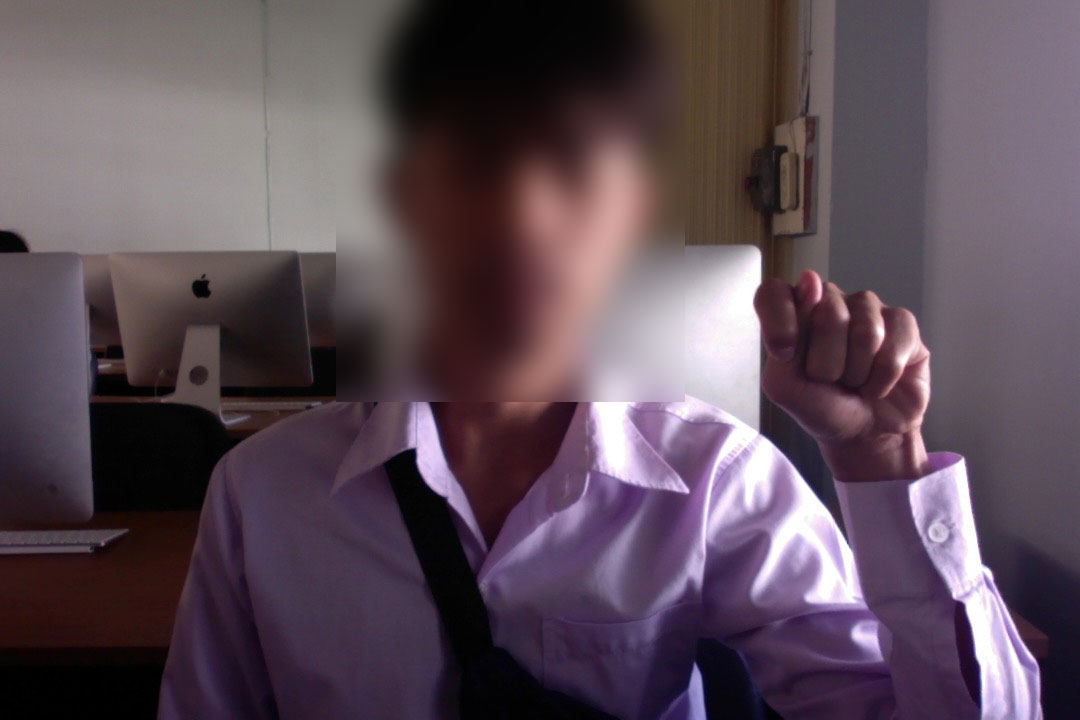tor: (743, 263, 941, 459)
